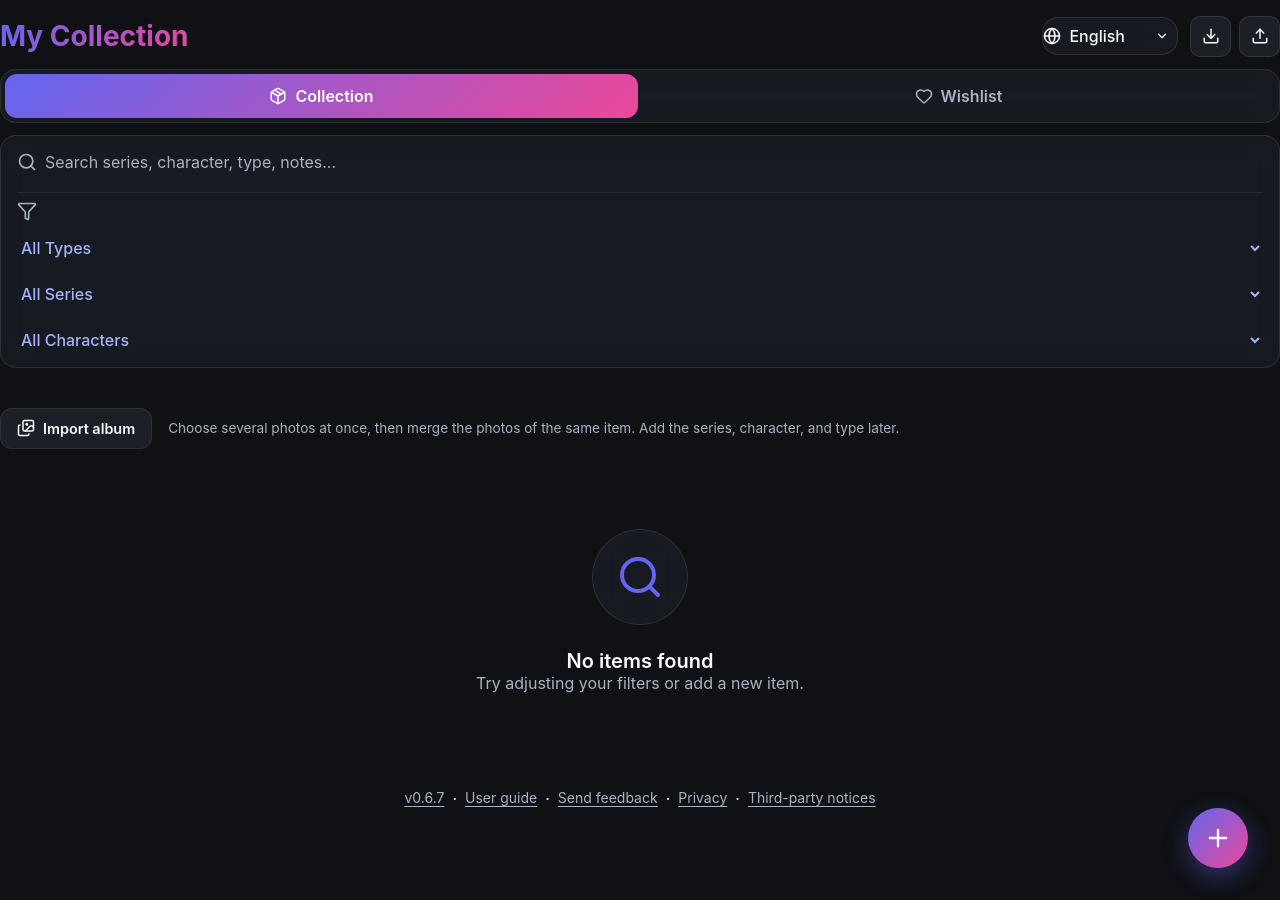
Scenario: Home smoke flows › on an iPhone › downloads the backup when the share sheet refuses the file
Click the button named "Export Backup" at (1211, 36), box [1190,16,1231,57]
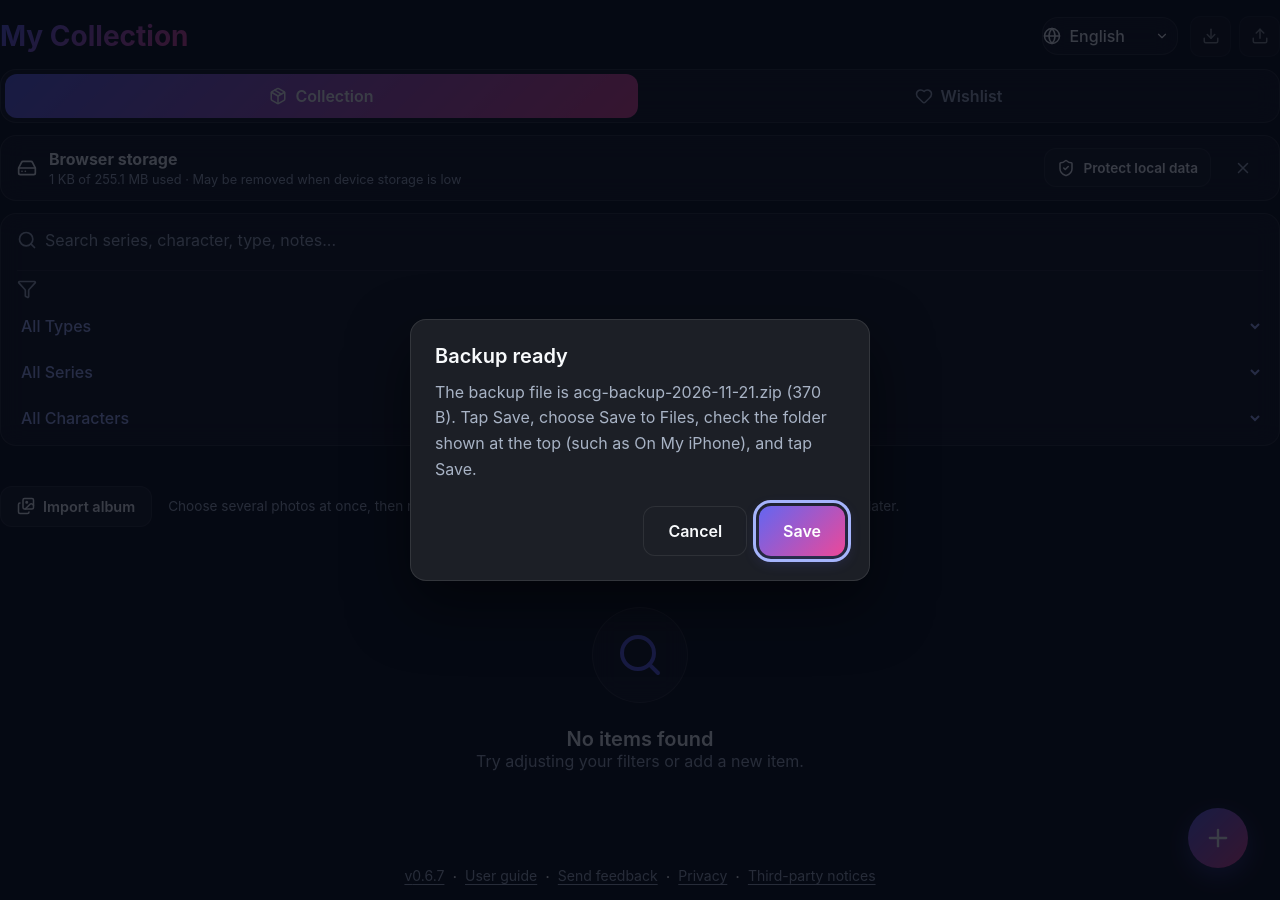
Click the button "Save" at (802, 531), box [759,506,845,556]
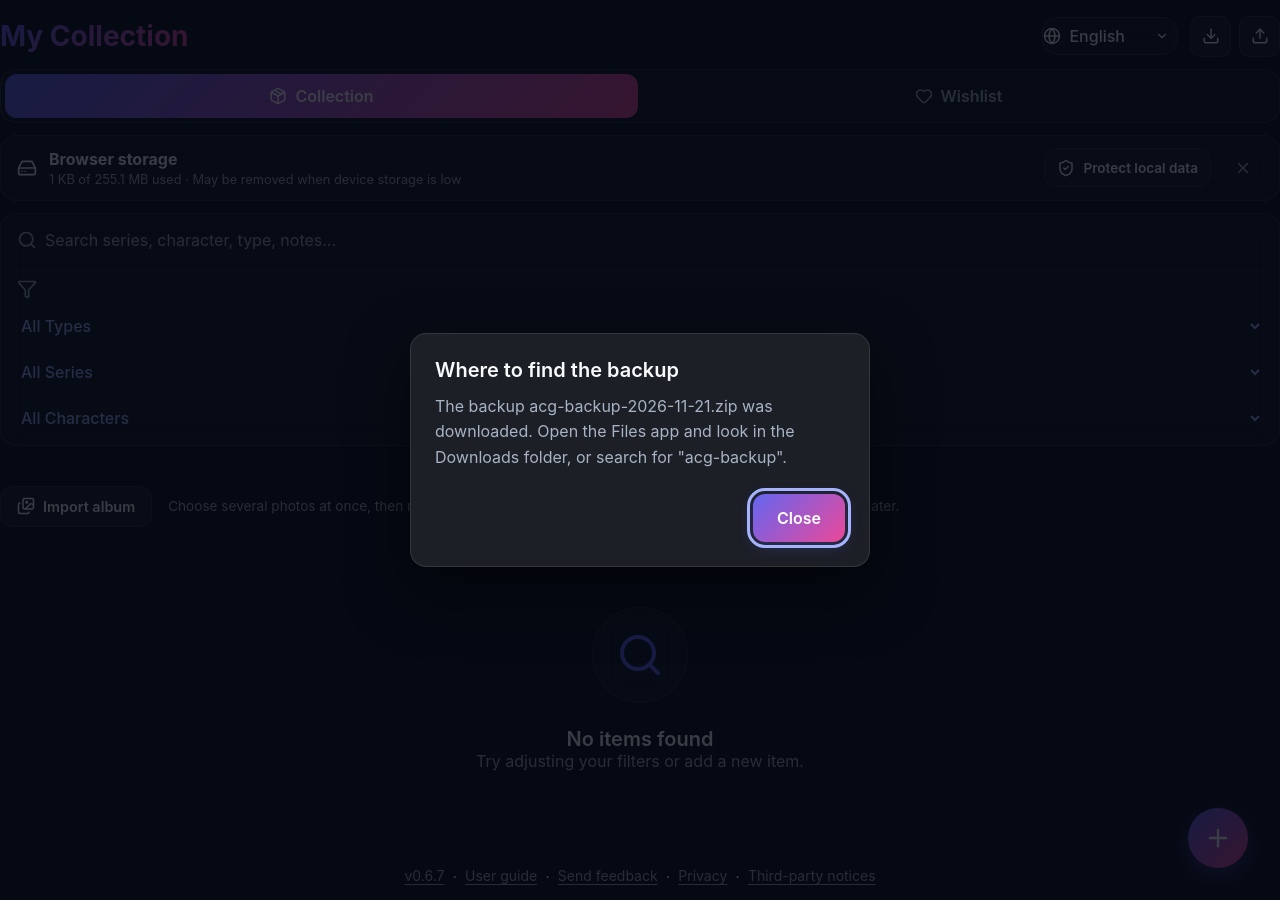
Result: the dialog "Where to find the backup" shows "Downloads folder" at [435,396,795,467]
